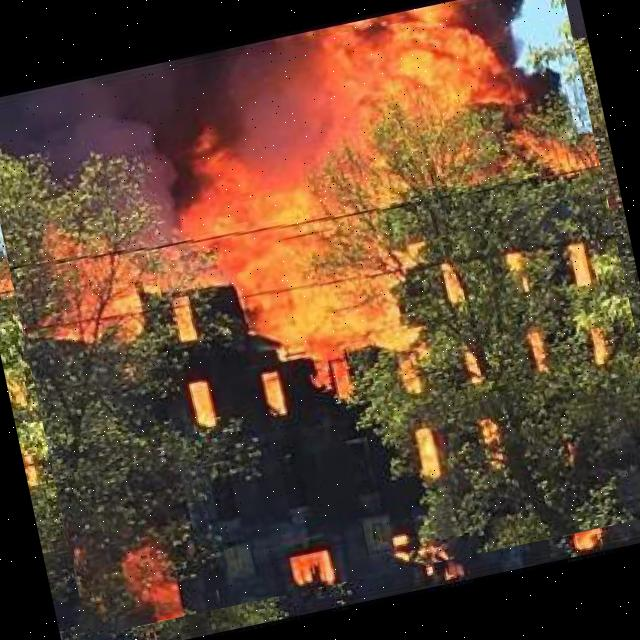fire: (0, 0, 640, 636)
